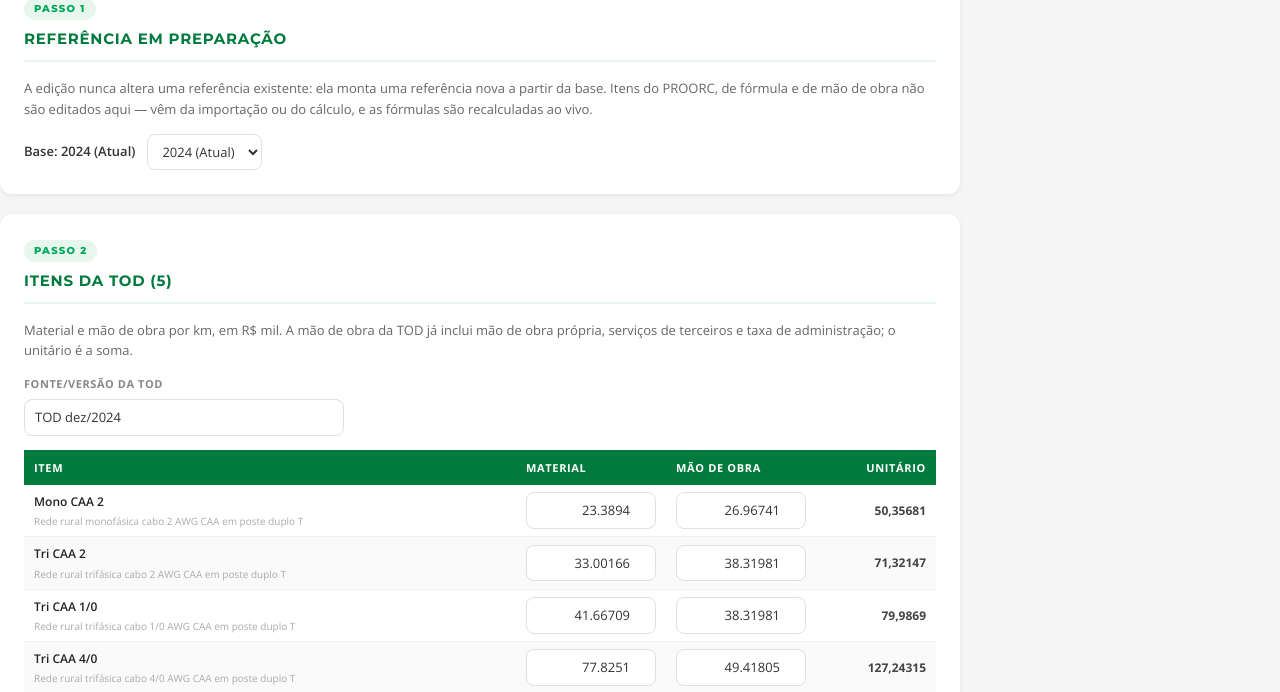
Test: R7 — tela "Editar valores" › chave que já existe é recusada
Replace the text in the number field named "Tri CAA 1/0 — material" with "45": (591, 615) [526,597,656,634]
(page scrolled)
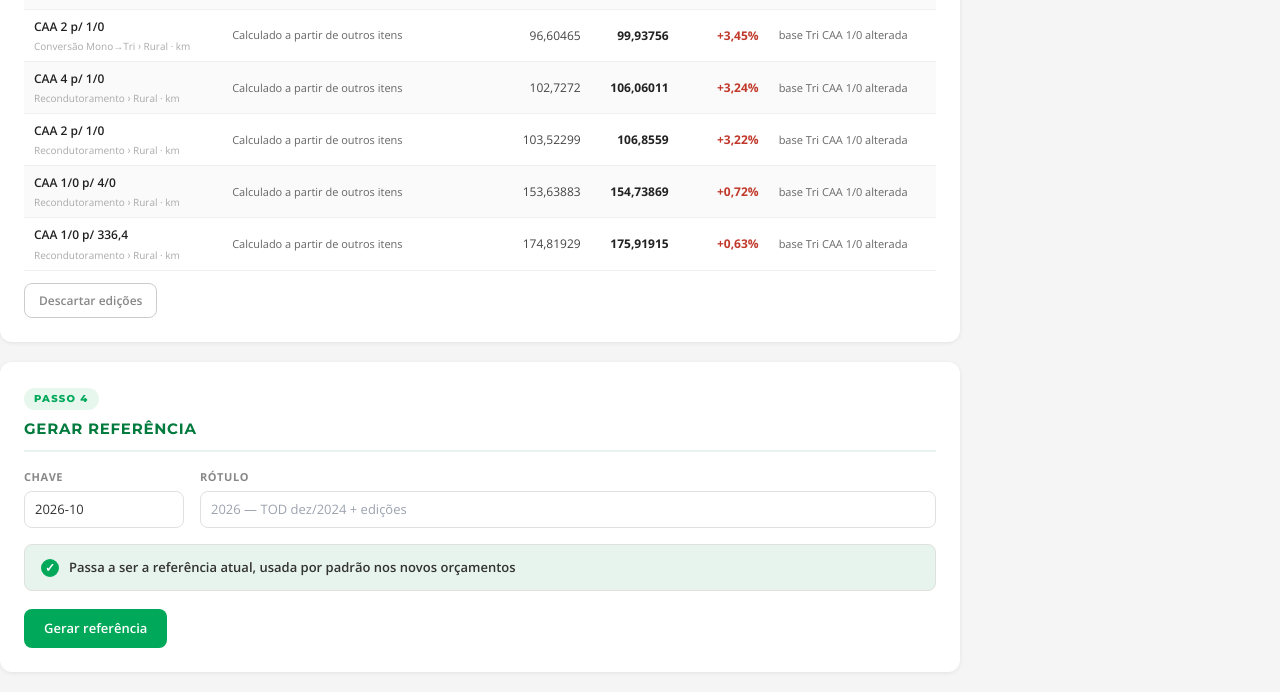
In the field labelled "Chave": (104, 510) [24,491,184,528], type "2024"
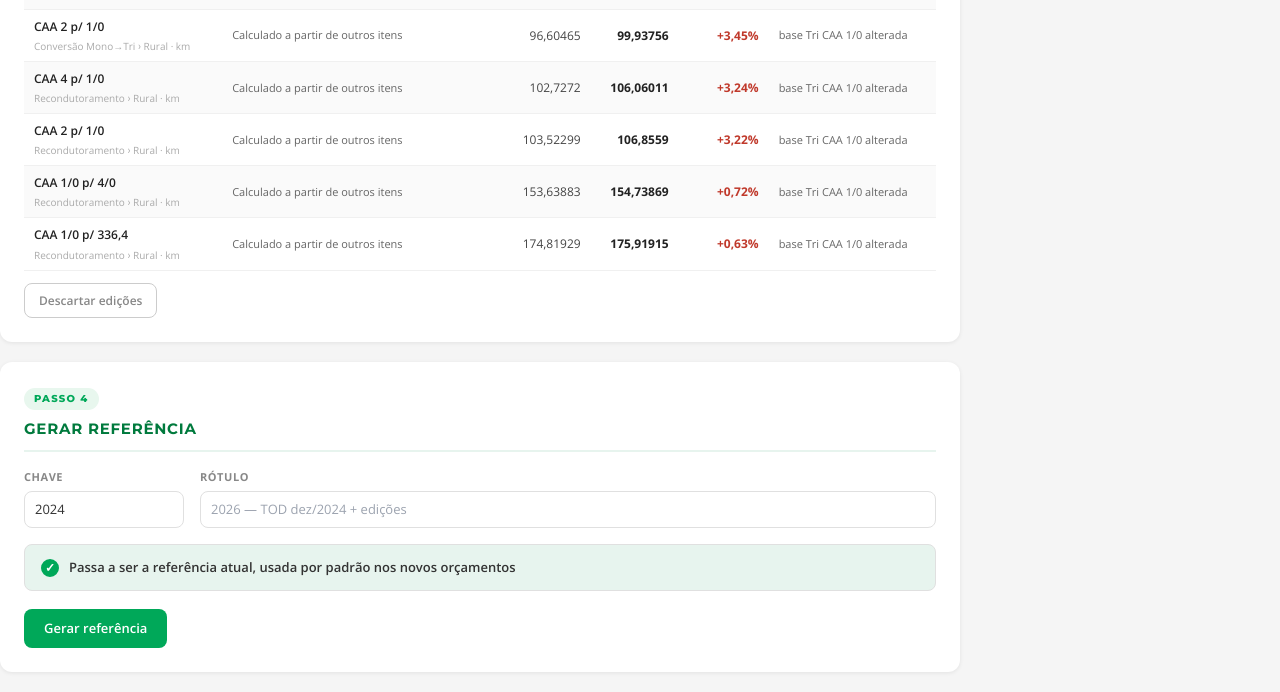
Click the button "Gerar referência": click(96, 628) [24,609,167,648]
(page scrolled)
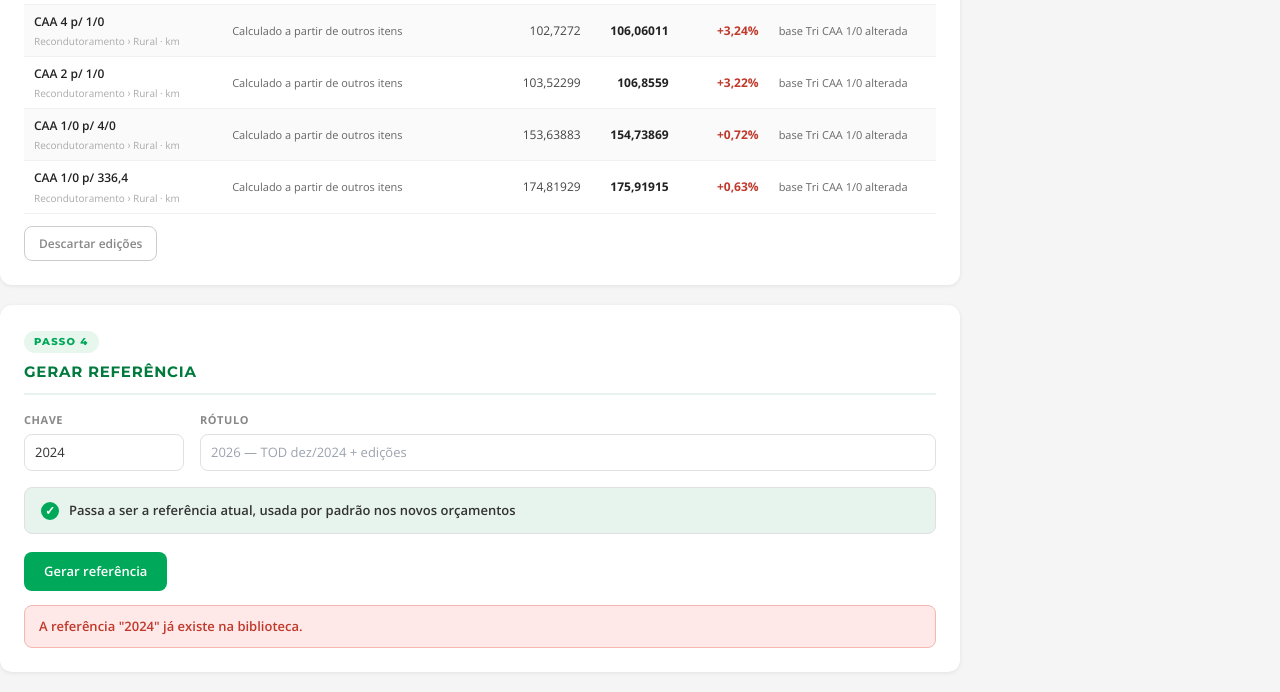
Check: the text "A referência \"2024\" já existe na biblioteca." is shown, box [39,617,303,635]
